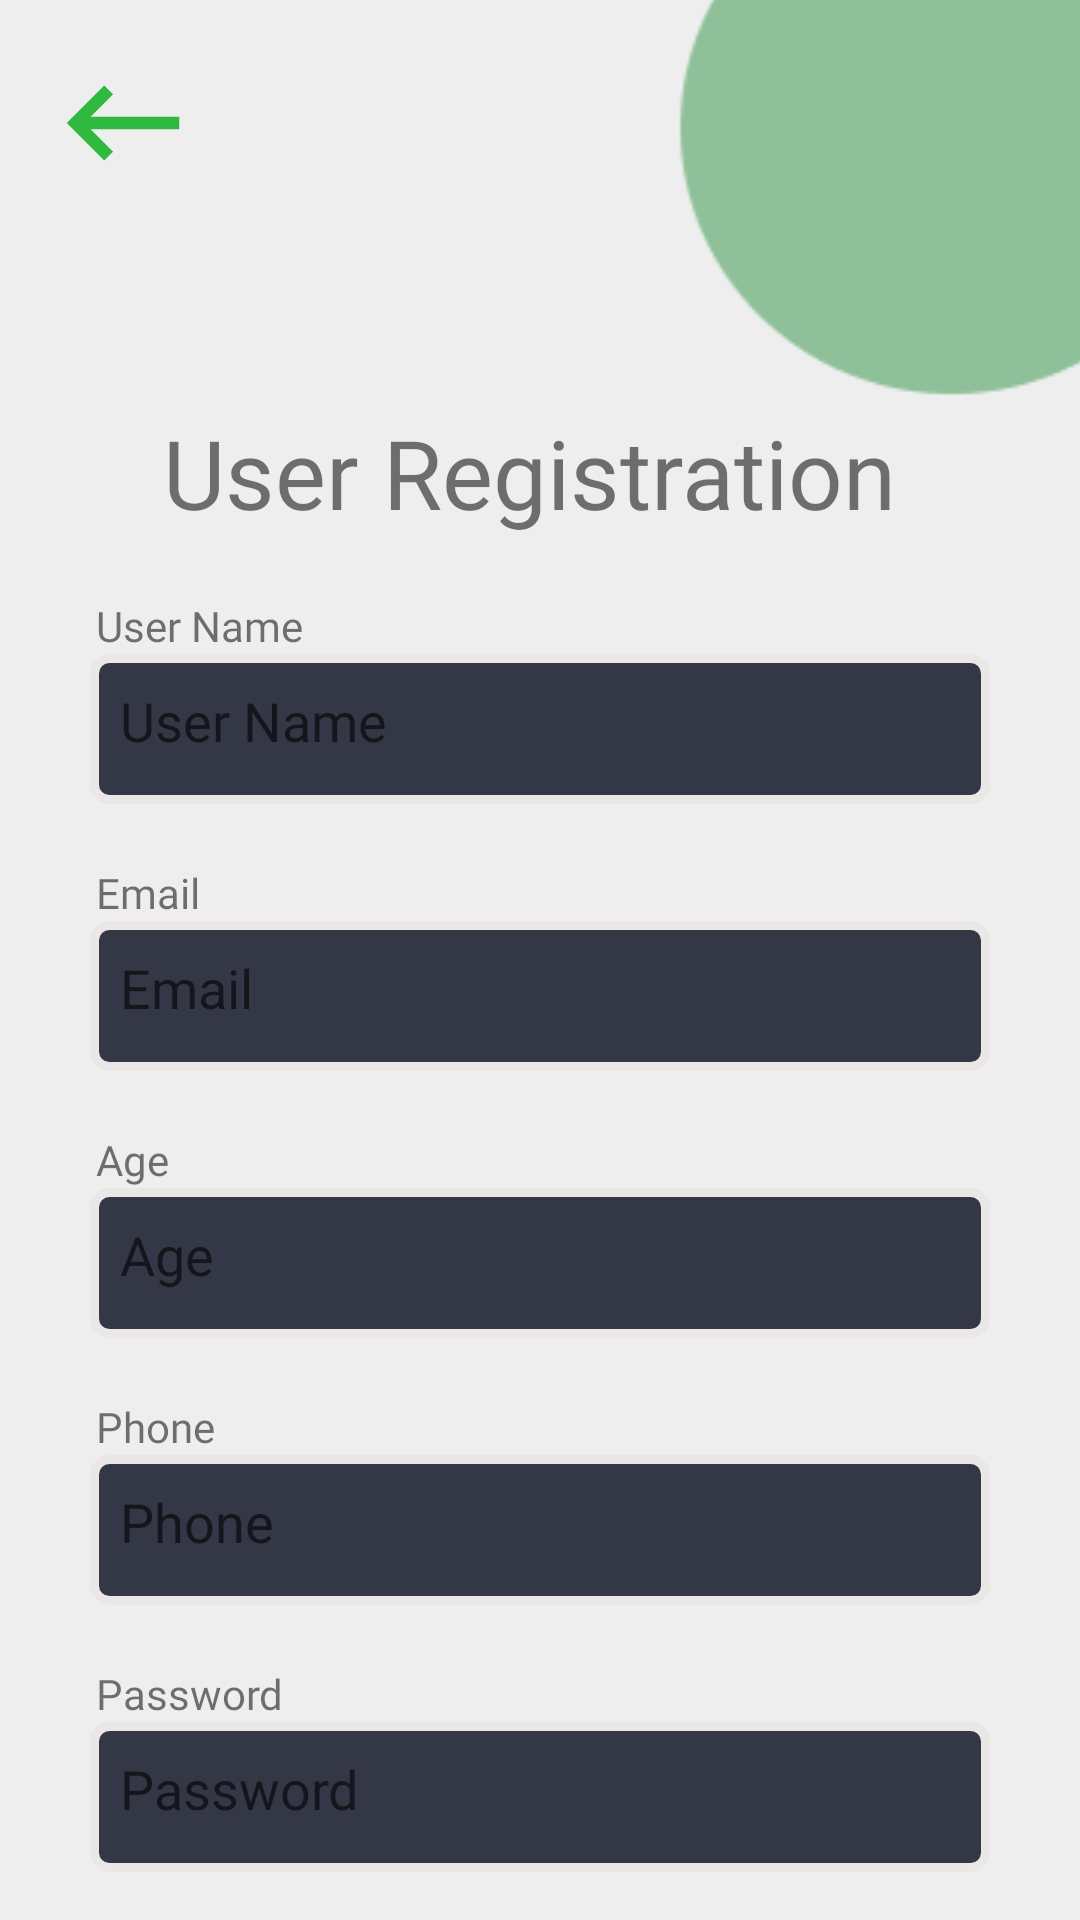

Icons on this 1080px x 1920px Android screen, each with the point to tap as (x,y):
keyboard backspace: (123,123)
